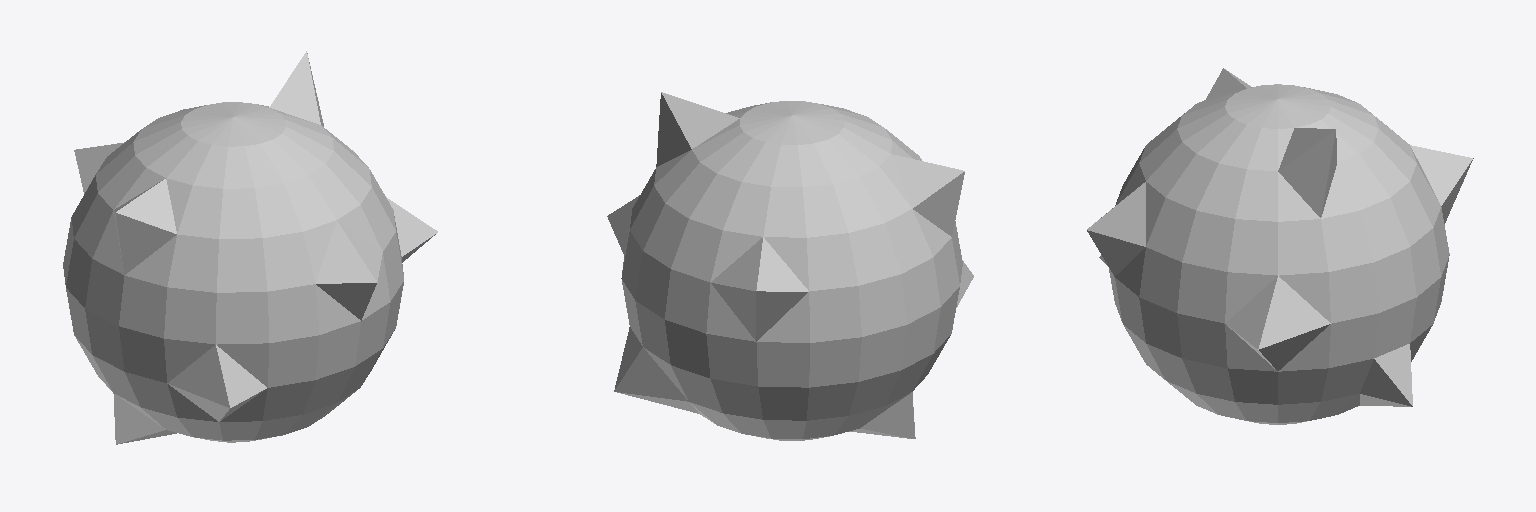
File: bahamut_bless_2.obj
3 renders of one model, left to right at view 1: azimuth 30°, elevation 25°; view 2: azimuth 150°, elevation 25°; view 3: azimuth 270°, elevation 25°, orthographic.
Bounding box in the file's own units: 1.08 × 0.9924 × 1.05.